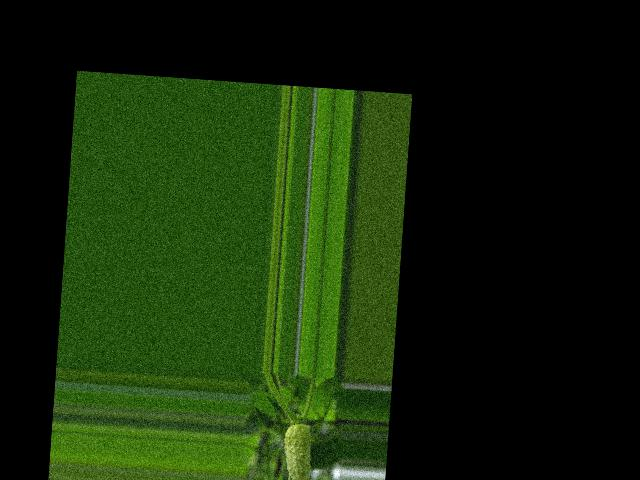cucumber: (280, 422, 312, 480)
